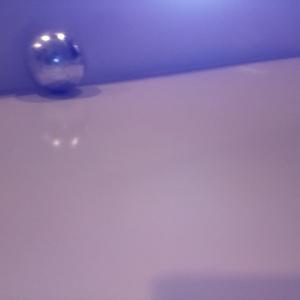alive_ball: (25, 30, 85, 91)
